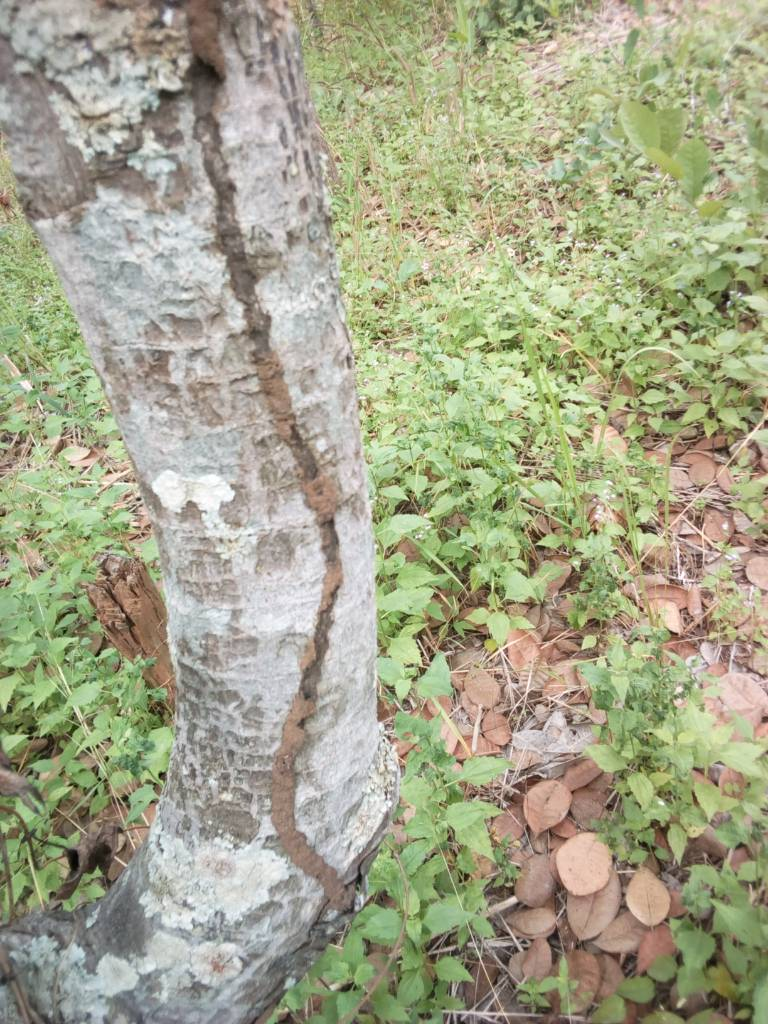Termites: (169, 110, 344, 507), (277, 535, 354, 907)
